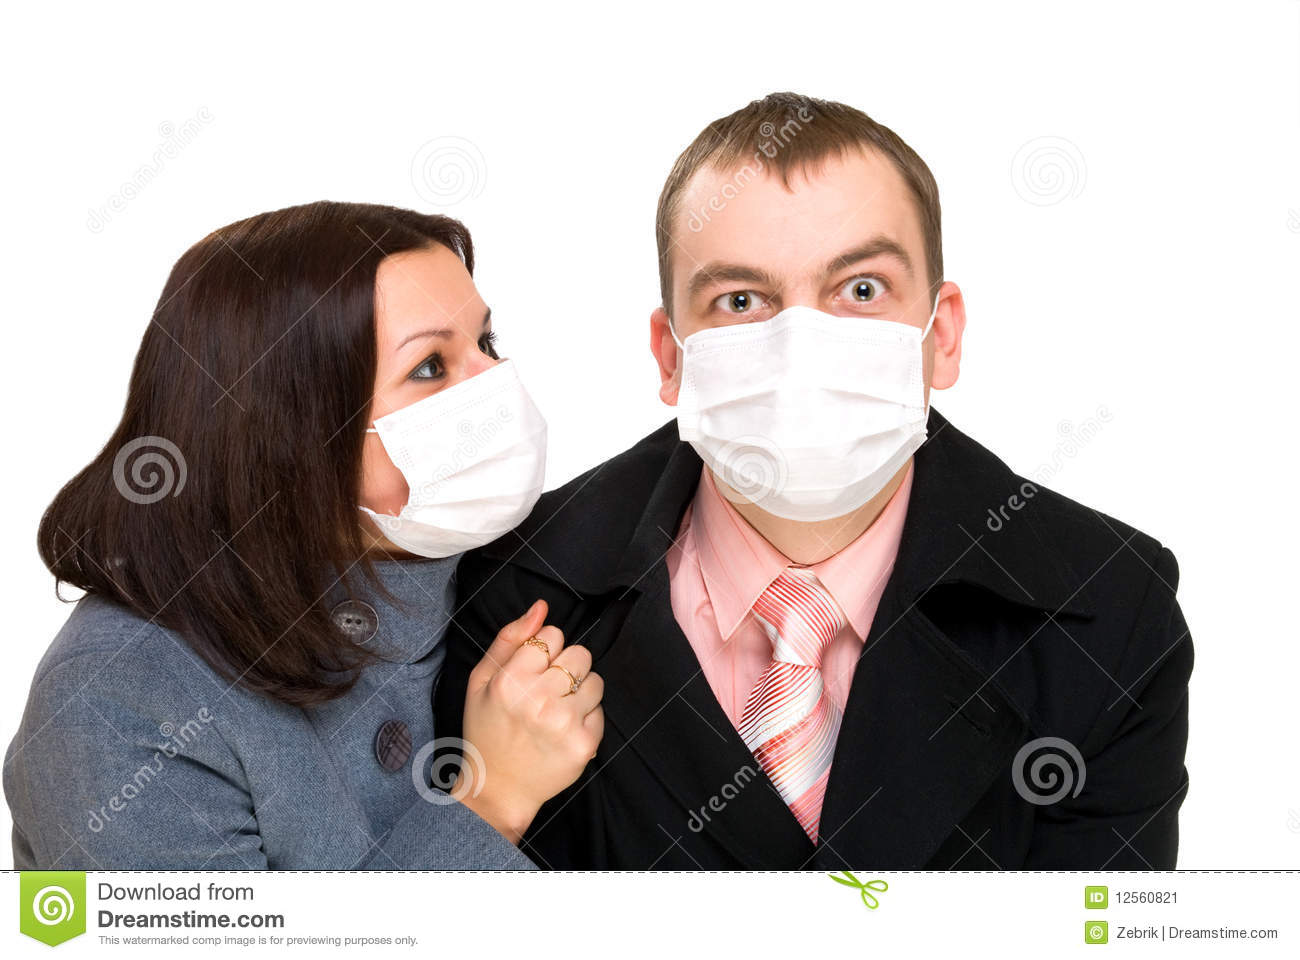mask: (676, 330, 935, 530), (369, 377, 567, 552)
